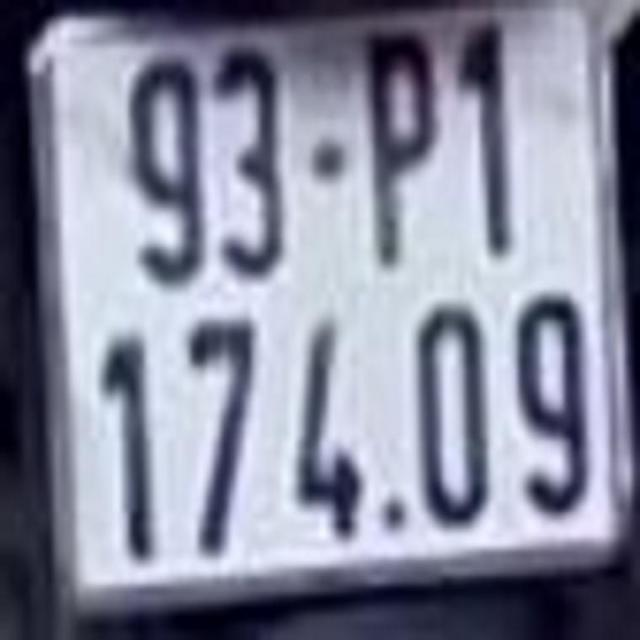0: (410, 302, 498, 534)
1: (91, 322, 168, 565), (449, 31, 530, 260)
3: (208, 46, 290, 284)
4: (285, 308, 363, 554)
7: (181, 312, 259, 557)
9: (125, 52, 208, 290), (514, 292, 594, 518)
P: (360, 33, 442, 265)
